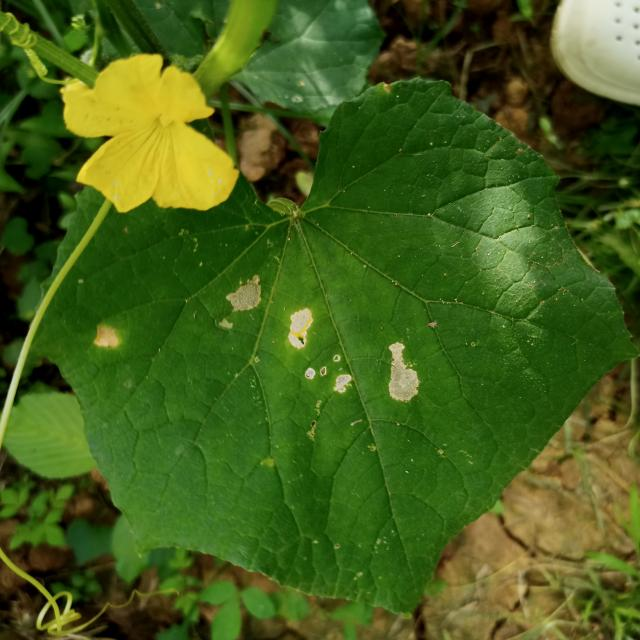disease_cucumber: (218, 274, 420, 407), (93, 324, 122, 352)
